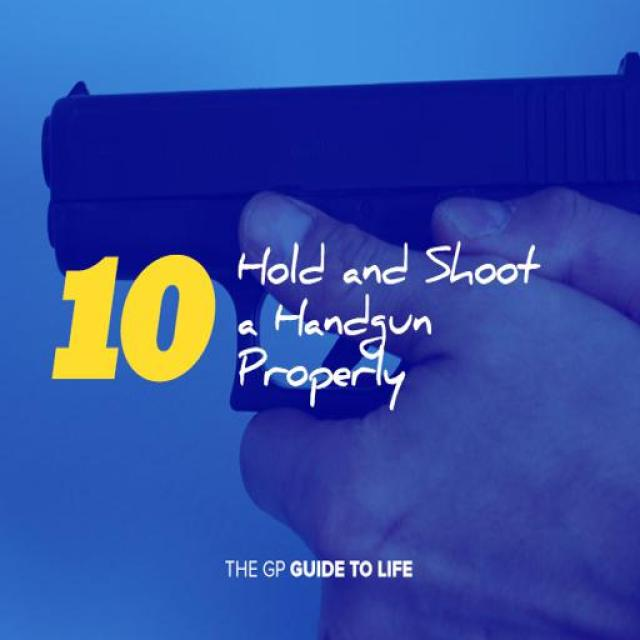pistol: (36, 59, 635, 508)
